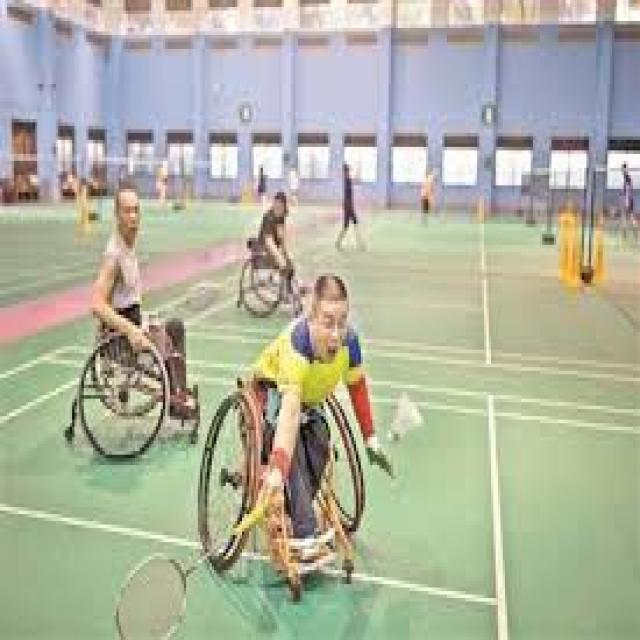wheelchairs: (186, 374, 361, 577), (54, 279, 221, 462), (230, 234, 312, 315)
